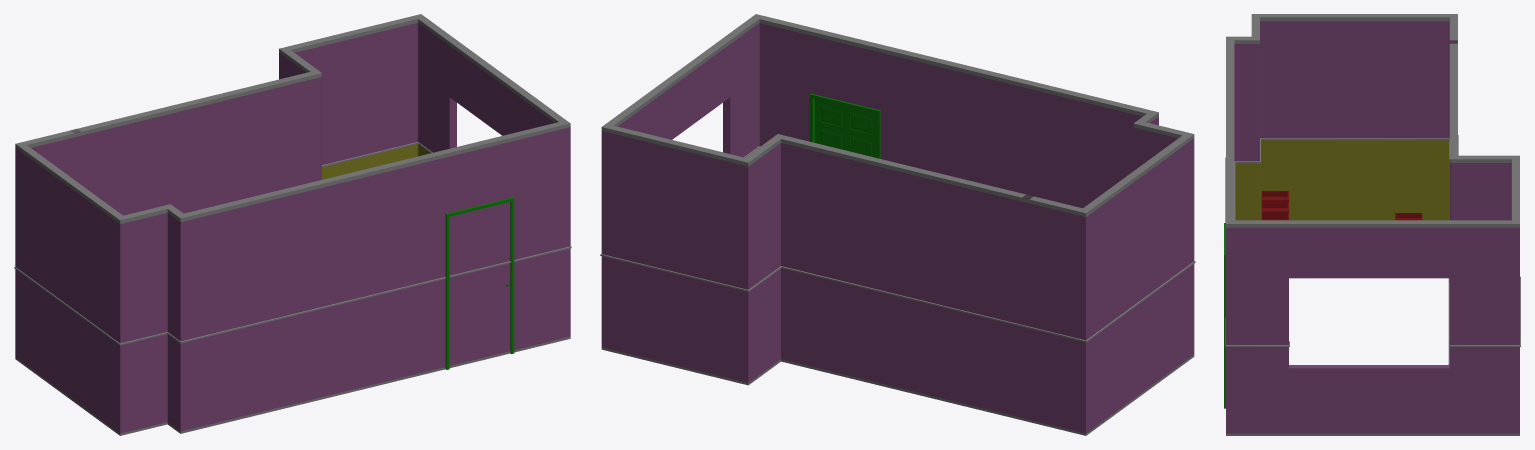
Rendered from FloorPlan9.fbx.
3 views of the same model, side by side, from view 1: azimuth 30°, elevation 25°; view 2: azimuth 150°, elevation 25°; view 3: azimuth 270°, elevation 25° (orthographic). The views are drawn at different scales.
Visible parts, largest first — view 1: StandardWallSize, StandardDoorFrame1; view 2: StandardWallSize, StandardDoor1, StandardDoorFrame1; view 3: StandardWallSize, StandardDoorFrame1, Drawer (8), Drawer (7).
Part boxes in pixels (x1=…): StandardWallSize: x1=14, y1=14, x2=571, y2=435; StandardDoorFrame1: x1=445, y1=197, x2=514, y2=369; StandardWallSize: x1=600, y1=14, x2=1195, y2=435; StandardDoor1: x1=815, y1=99, x2=876, y2=157; StandardDoorFrame1: x1=809, y1=93, x2=880, y2=158; StandardWallSize: x1=1225, y1=14, x2=1520, y2=435; StandardDoorFrame1: x1=1224, y1=223, x2=1225, y2=408; Drawer (8): x1=1261, y1=202, x2=1288, y2=213; Drawer (7): x1=1261, y1=190, x2=1288, y2=202.
Bounding box in the file's own units: 602 × 282 × 358.
